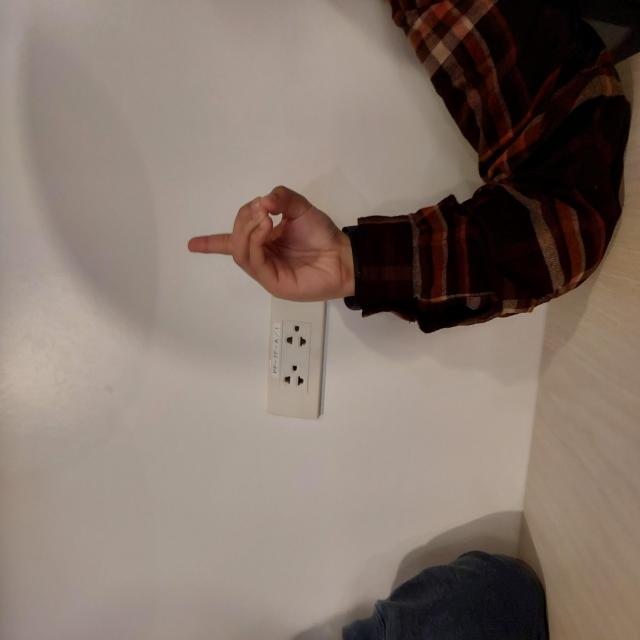D: (333, 183, 464, 355)
